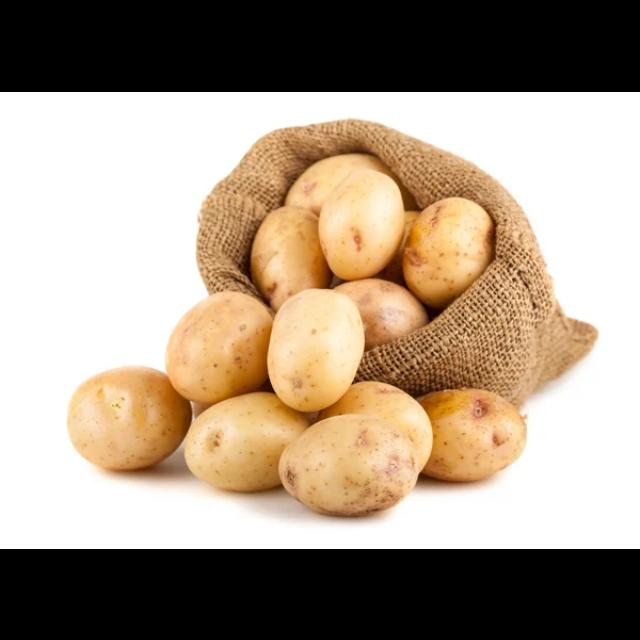Potato: (277, 414, 419, 518), (184, 391, 328, 492), (64, 366, 194, 470), (164, 291, 280, 404), (396, 384, 526, 484), (318, 378, 432, 486), (267, 288, 365, 412), (284, 150, 410, 242), (404, 194, 494, 306), (319, 170, 407, 280), (322, 276, 432, 362), (250, 206, 334, 310)
